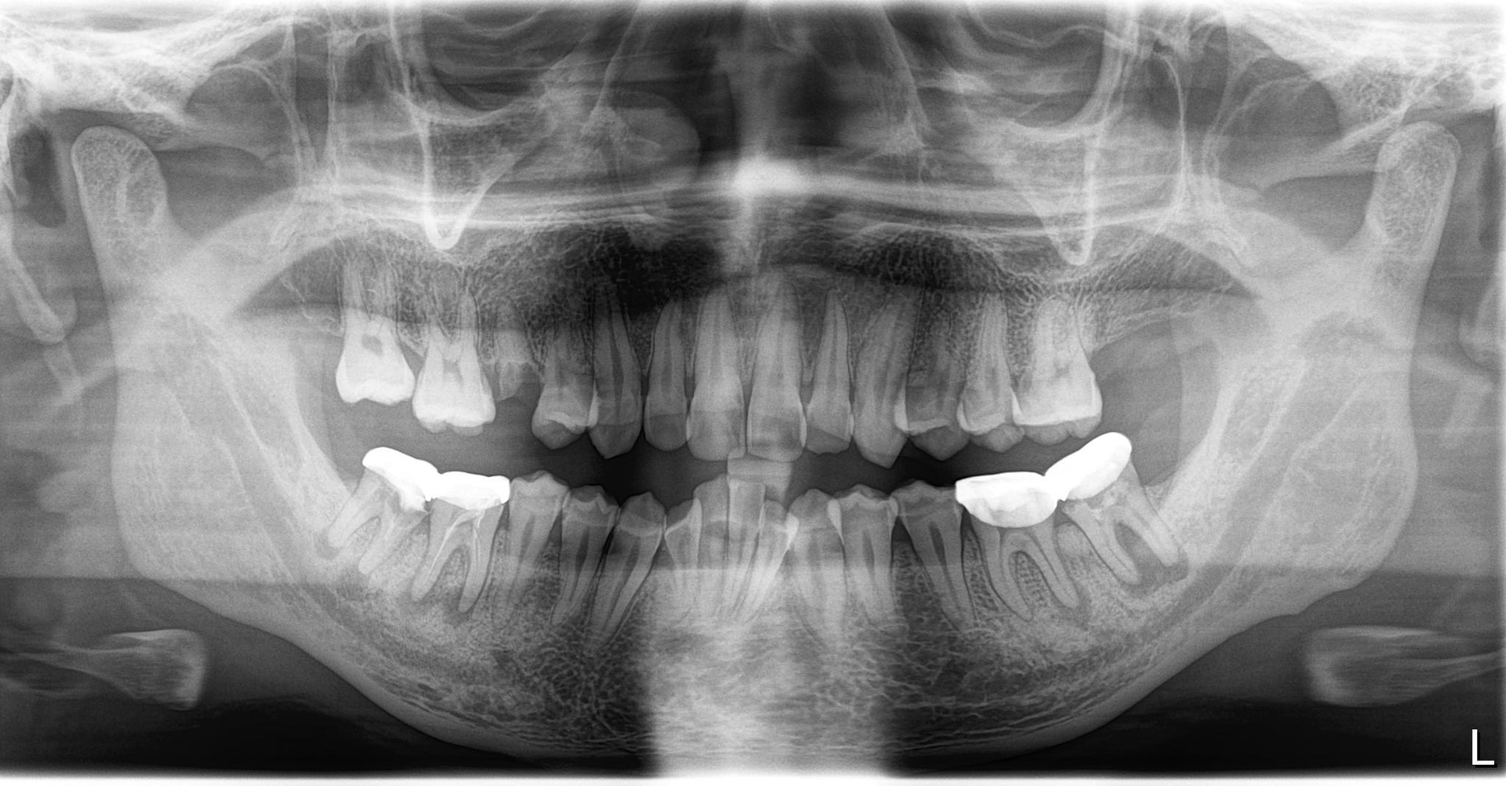Missing Tooth: (1101, 288, 1170, 410), (298, 435, 357, 536), (287, 296, 342, 403), (1149, 443, 1205, 532)
Retained Root: (483, 303, 535, 416)
